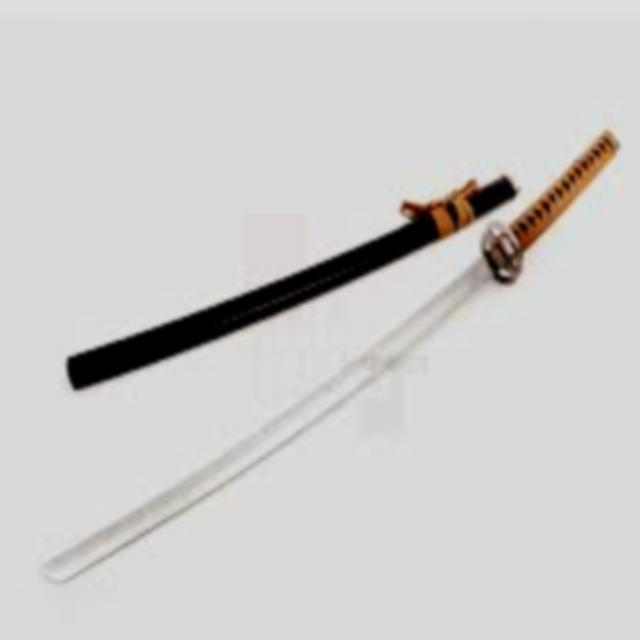long sword: (36, 128, 624, 588)
